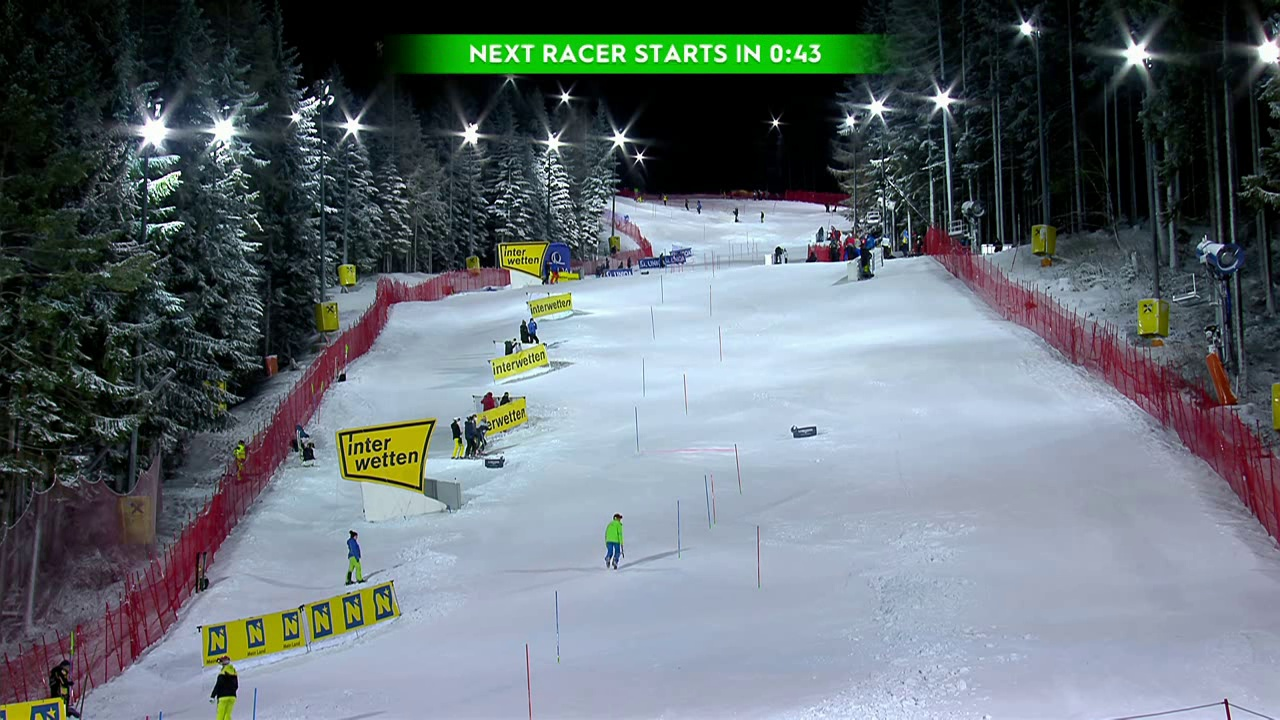interwetten: (340, 422, 425, 487)
raiffeisen: (477, 401, 532, 442), (495, 244, 547, 278)
